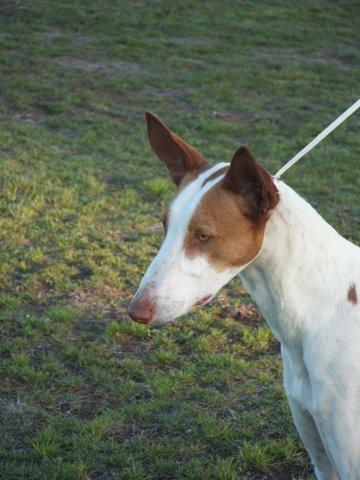Ibizan_hound: (124, 106, 358, 478)
